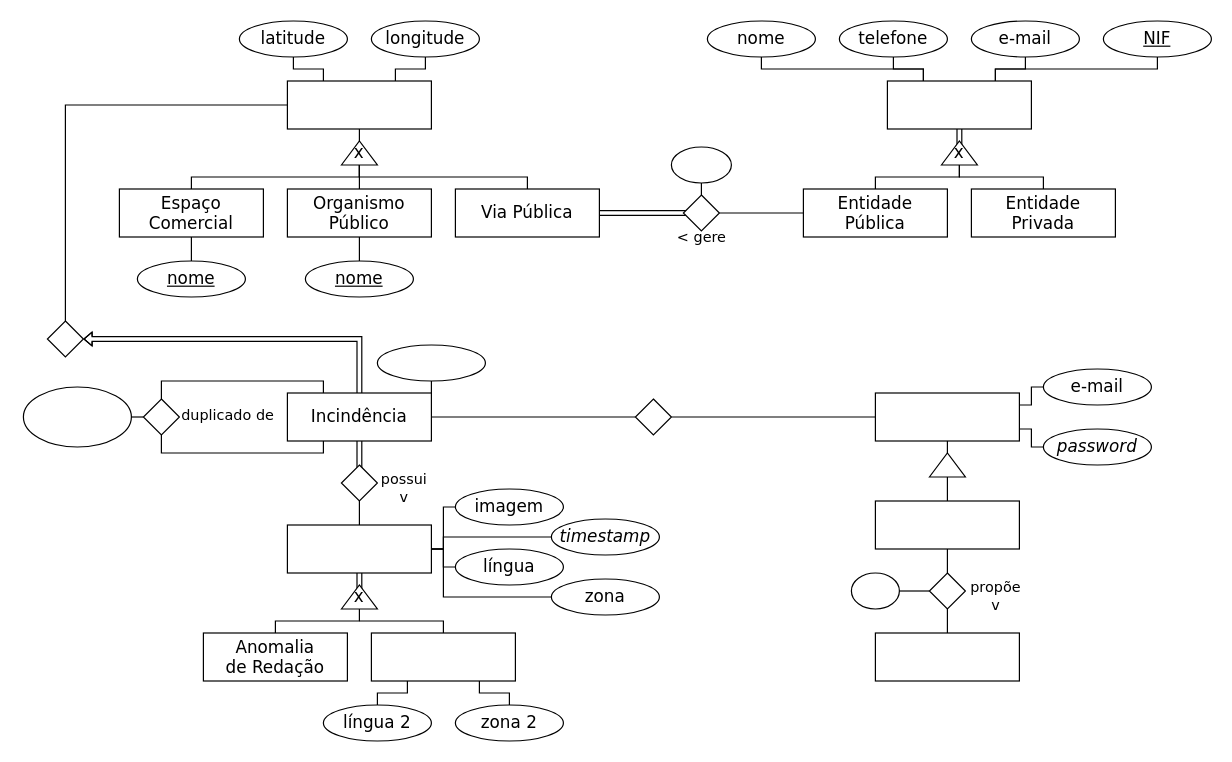
This 1232x762 diagram has some shape labels left out. The shapes that lost their labels are listed below. From the top down, each one's centre as x and y in pixels, then its label:
the point at 358,104: Local Público
the point at 958,104: Entidade Responsável
the point at 700,164: data
the point at 64,338: < ocorre em
the point at 430,362: texto
the point at 76,416: número de duplicados
the point at 652,416: < reporta
the point at 946,416: Utilizador
the point at 946,524: Utilizador Certificado
the point at 358,548: Anomalia
the point at 874,590: ID
the point at 442,656: Anomalia de Tradução
the point at 946,656: Sugestão
